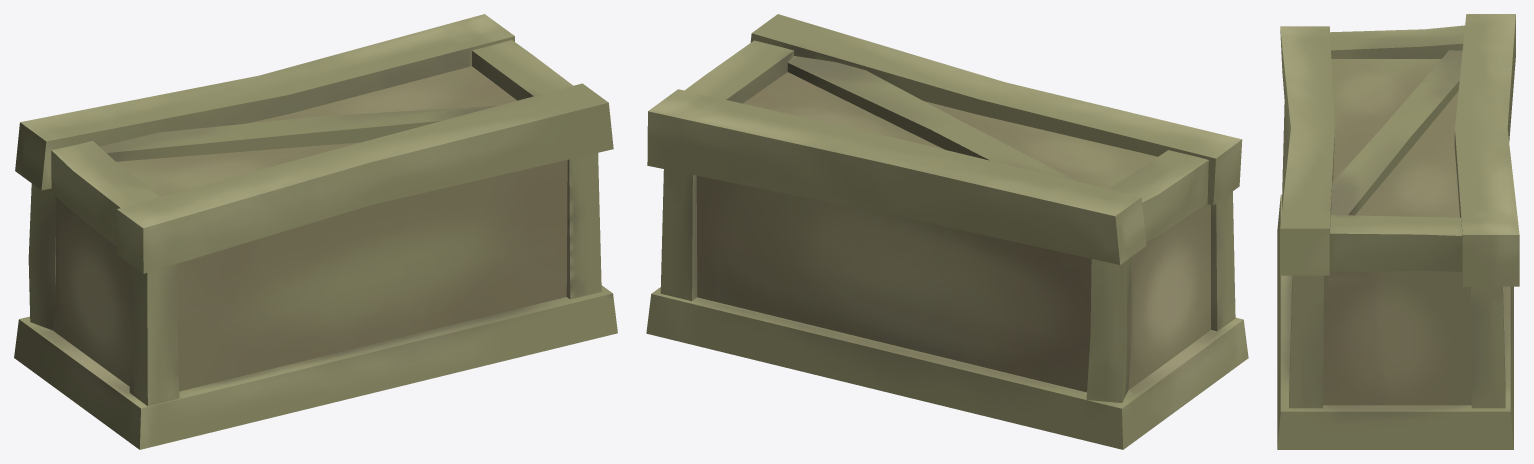
The model's file is Primera_Slums_Props _Box02.fbx.
The picture shows the model from 3 angles, left to right: view 1: azimuth 30°, elevation 25°; view 2: azimuth 150°, elevation 25°; view 3: azimuth 270°, elevation 25°; orthographic projection. The views are drawn at different scales.
Visible parts, largest first — view 1: Primera_Slums_Props _Box02; view 2: Primera_Slums_Props _Box02; view 3: Primera_Slums_Props _Box02.
Part boxes in pixels (x1,y1,x2,y2): Primera_Slums_Props _Box02: (14,14,617,449); Primera_Slums_Props _Box02: (646,14,1248,449); Primera_Slums_Props _Box02: (1277,14,1519,449).
Bounding box in the file's own units: 520 × 242 × 242.
Materials: 1 (1 with a texture image).
